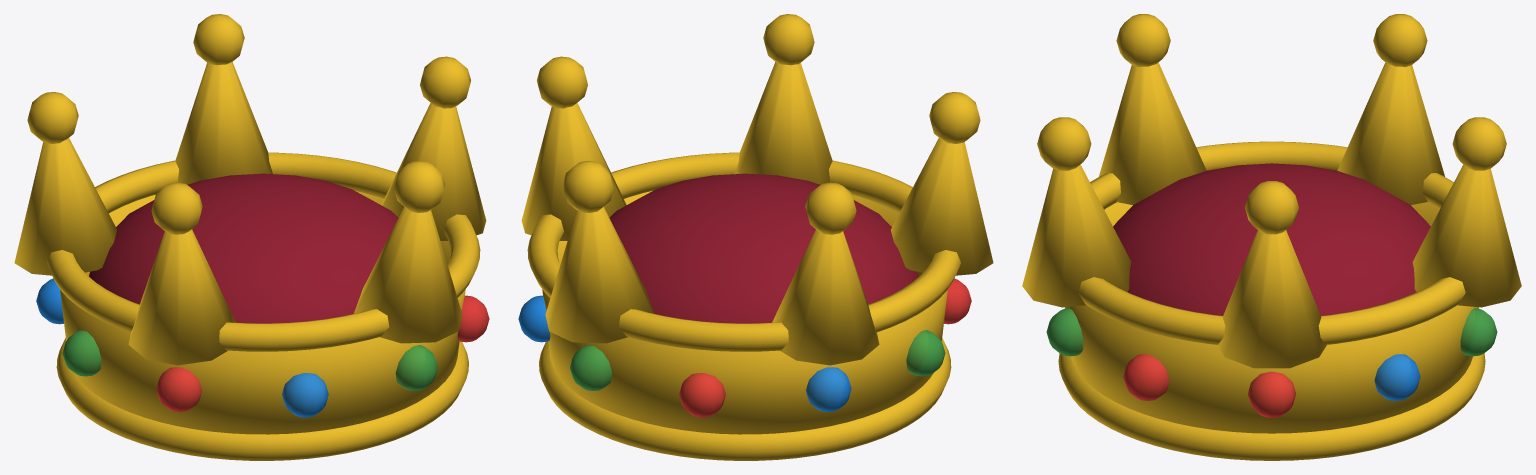
Rendered from items-crown.glb.
The picture shows the model from 3 angles, left to right: view 1: azimuth 30°, elevation 25°; view 2: azimuth 150°, elevation 25°; view 3: azimuth 270°, elevation 25°; orthographic projection. The views are drawn at different scales.
Parts seen in each view (by area): view 1: Crown__Gold, Crown__Velvet, Crown__Gems3, Crown__Gems1, Crown__Gems2; view 2: Crown__Gold, Crown__Velvet, Crown__Gems3, Crown__Gems2, Crown__Gems1; view 3: Crown__Gold, Crown__Velvet, Crown__Gems1, Crown__Gems3, Crown__Gems2.
Boxes of the visible parts, x1=… form: Crown__Gold: x1=14, y1=14, x2=486, y2=460; Crown__Velvet: x1=89, y1=173, x2=398, y2=323; Crown__Gems3: x1=62, y1=330, x2=437, y2=390; Crown__Gems1: x1=156, y1=295, x2=489, y2=412; Crown__Gems2: x1=36, y1=278, x2=328, y2=417; Crown__Gold: x1=521, y1=14, x2=993, y2=460; Crown__Velvet: x1=609, y1=173, x2=918, y2=323; Crown__Gems3: x1=570, y1=330, x2=945, y2=390; Crown__Gems2: x1=518, y1=295, x2=851, y2=412; Crown__Gems1: x1=679, y1=278, x2=971, y2=417; Crown__Gold: x1=1022, y1=14, x2=1521, y2=460; Crown__Velvet: x1=1113, y1=163, x2=1430, y2=315; Crown__Gems1: x1=1123, y1=354, x2=1295, y2=417; Crown__Gems3: x1=1046, y1=308, x2=1497, y2=356; Crown__Gems2: x1=1374, y1=354, x2=1420, y2=400.
Bounding box in the file's own units: 5.08 × 3.33 × 5.15.
